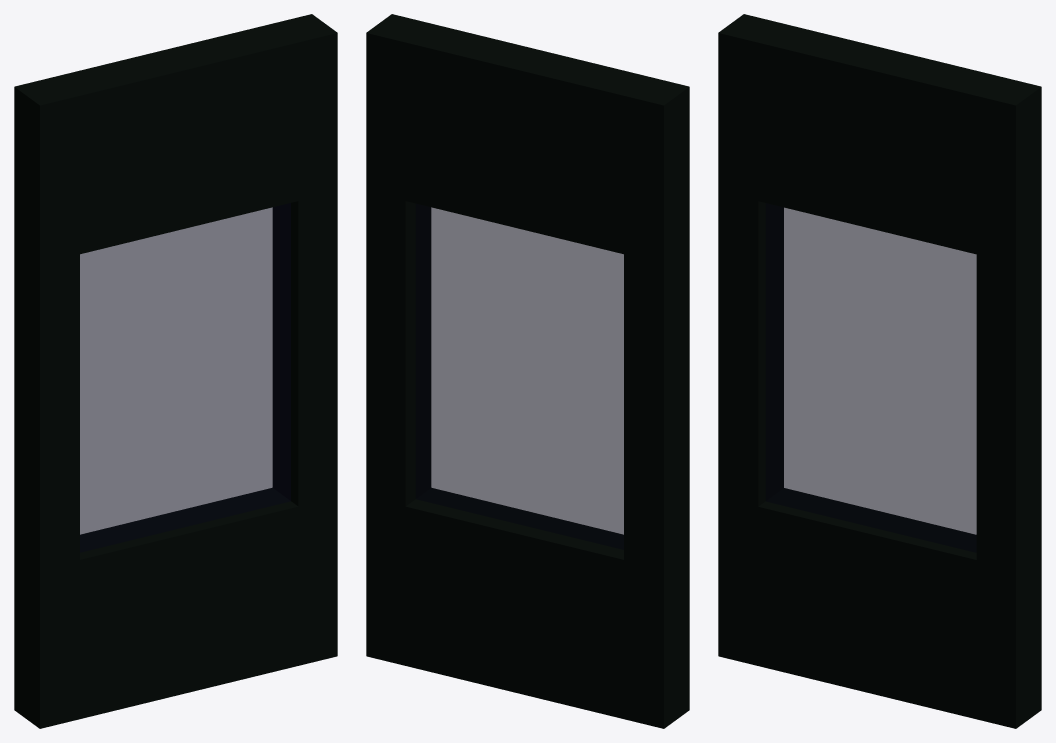
The model's file is BlackWindow.glb.
The picture shows the model from 3 angles, left to right: view 1: azimuth 30°, elevation 25°; view 2: azimuth 150°, elevation 25°; view 3: azimuth 330°, elevation 25°; orthographic projection.
Visible parts, largest first — view 1: wall_black_window; view 2: wall_black_window; view 3: wall_black_window.
Boxes of the visible parts, x1,y1,x2,y2 form: wall_black_window: (14,14,337,728); wall_black_window: (366,14,689,728); wall_black_window: (718,14,1041,728).
Size of what is drawn, in the model's own units: 2 by 4 by 0.3.
2 materials, 2 textured.
